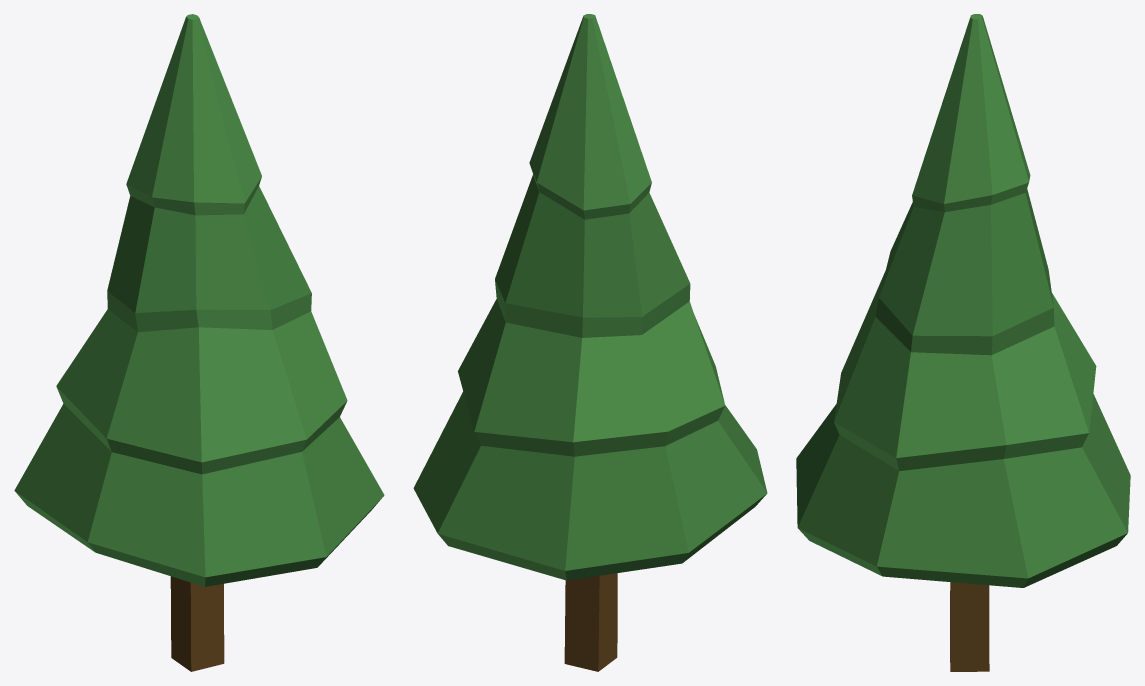
The model's file is tree_pine_medium_2.fbx.
3 views of the same model, side by side, from view 1: azimuth 30°, elevation 25°; view 2: azimuth 150°, elevation 25°; view 3: azimuth 270°, elevation 25° (orthographic).
Parts seen in each view (by area): view 1: pCube292; view 2: pCube292; view 3: pCube292.
Part boxes in pixels (left/top/right/bottom): pCube292: left=14, top=14, right=384, bottom=671; pCube292: left=413, top=14, right=767, bottom=671; pCube292: left=796, top=14, right=1130, bottom=671.
Size of the model in its own units: 4.46 by 9.45 by 4.43.
